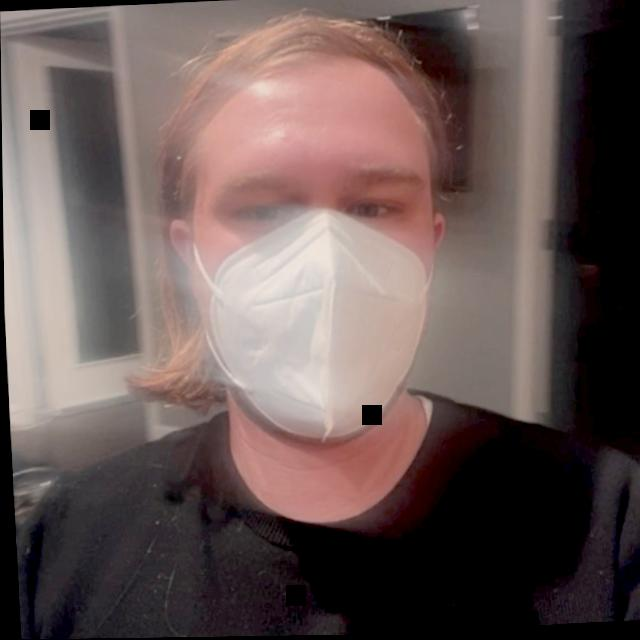Mask: (117, 0, 491, 466)
